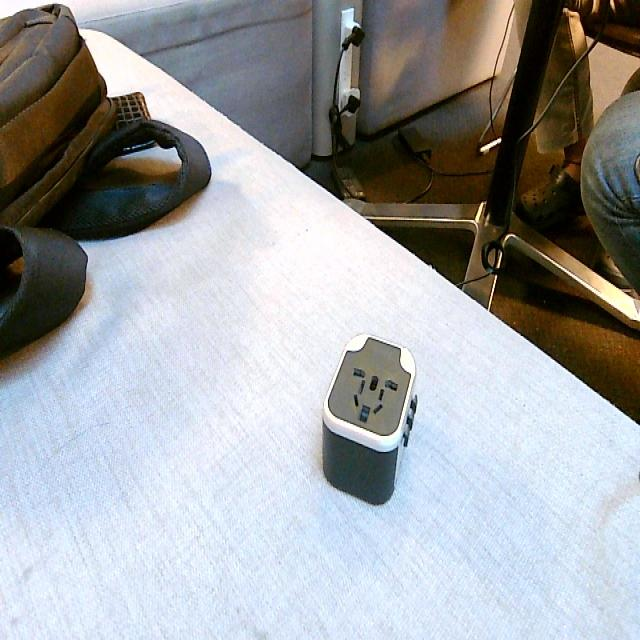adapter: (320, 331, 418, 505)
